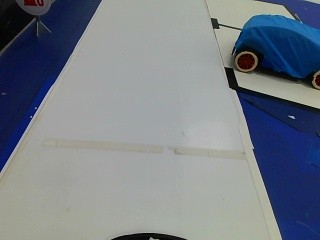car: (227, 14, 318, 88)
